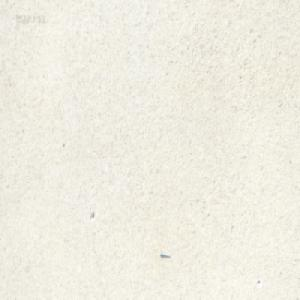Nail: (159, 250, 170, 258)
